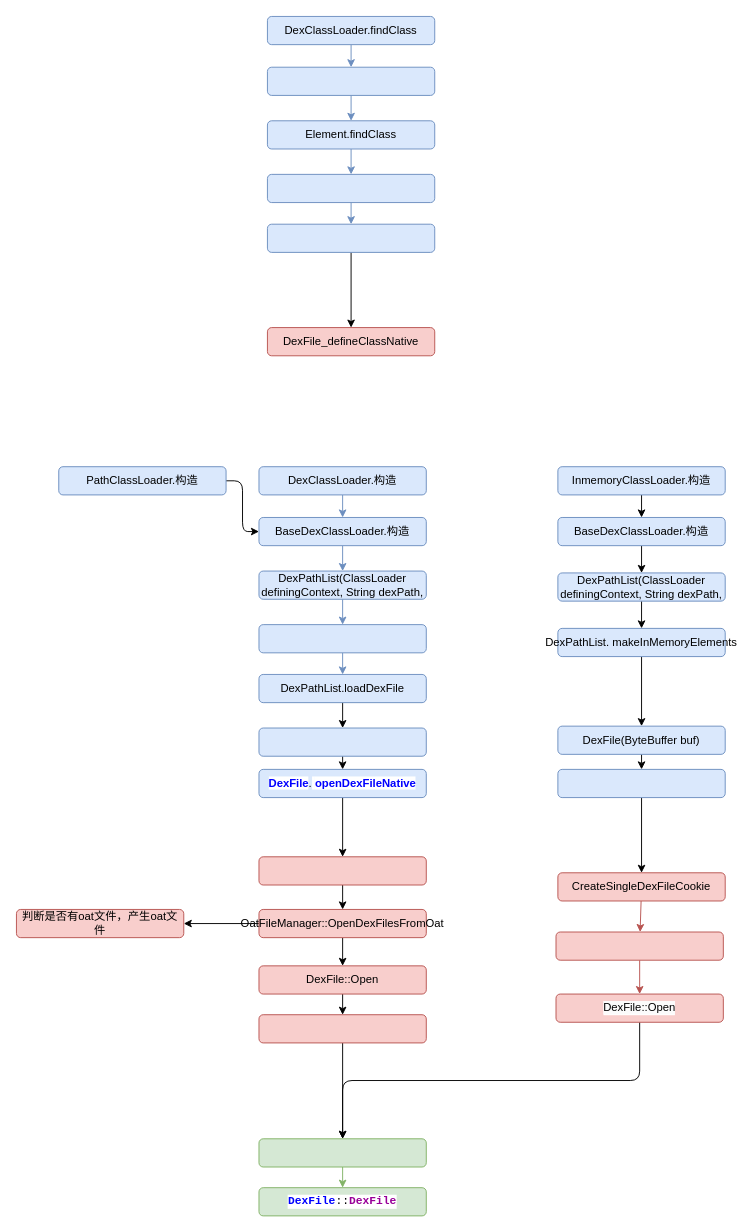
This 754x1232 diagram has some shape labels left out. Each missing label, with the centre of its shape:
"CreateDexFile" belongs at pixel 639 945.
"DexFile .构造" belongs at pixel 342 741.
"DexFile.defineClassNative" belongs at pixel 350 237.
"DexFile.findClass" belongs at pixel 350 188.
"DexFile.openInMemoryDexFile" belongs at pixel 641 783.
"DexFile::OpenCommon" belongs at pixel 342 1152.
"DexFile::OpenFile" belongs at pixel 342 1028.
"DexFile_openDexFileNative" belongs at pixel 342 870.
"DexPathList . makeDexElements" belongs at pixel 342 638.
"DexPathList.findClass" belongs at pixel 350 80.
